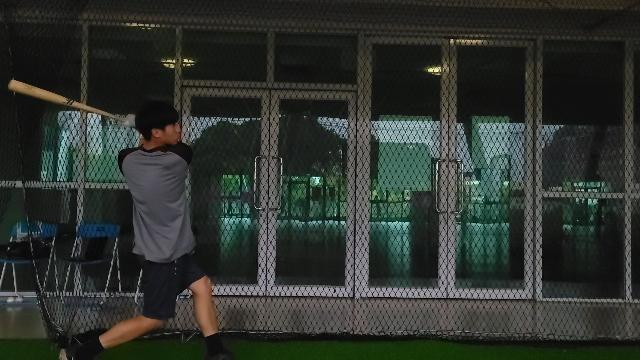bat: (8, 77, 124, 124)
